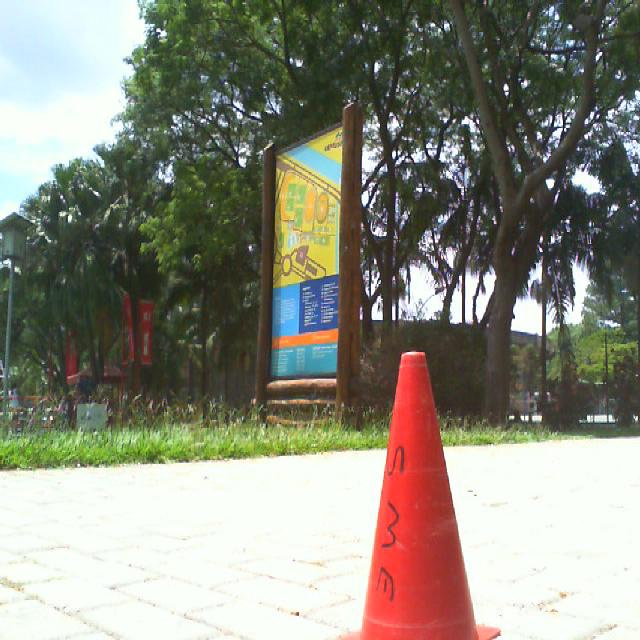cone: (337, 352, 500, 640)
